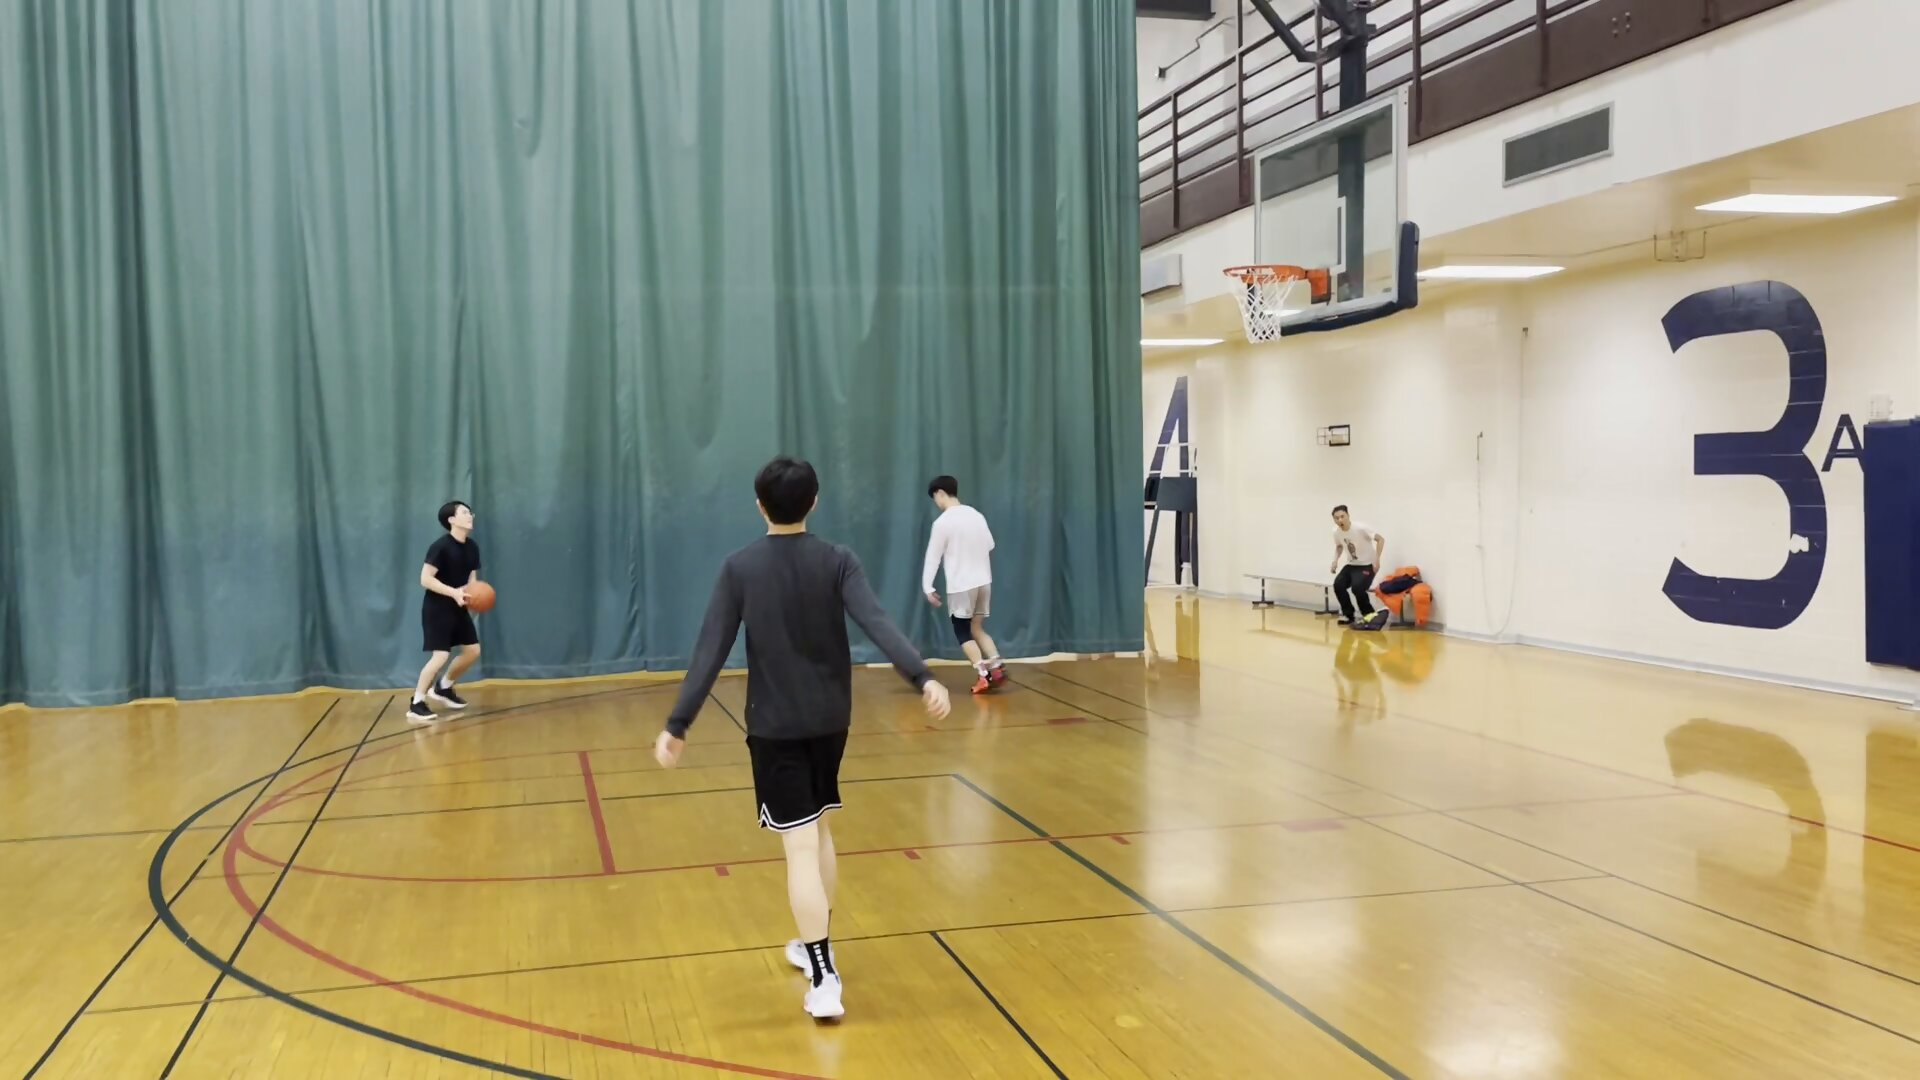ball: (459, 578, 500, 616)
net: (1235, 315, 1291, 350)
player: (662, 448, 946, 1015), (917, 474, 1026, 698), (415, 498, 495, 724), (1322, 501, 1388, 627)
rim: (1219, 262, 1311, 288)
